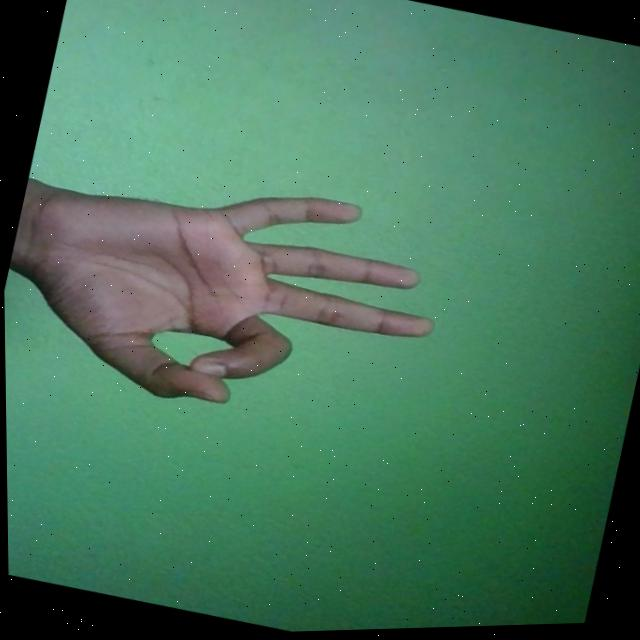Ok: (2, 130, 458, 461)
